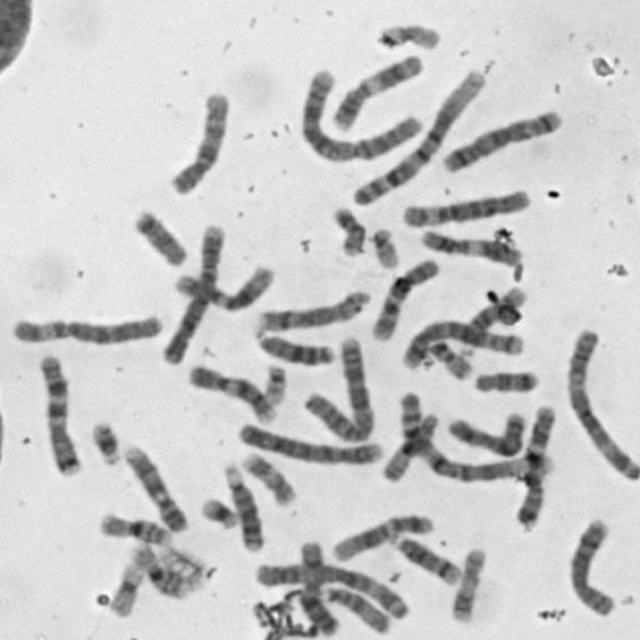A1: (346, 62, 488, 208), (392, 386, 558, 484)
A2: (293, 62, 424, 165), (296, 330, 379, 445)
A3: (560, 320, 639, 482), (249, 556, 413, 622)
B4: (157, 218, 226, 367), (233, 418, 384, 467)
B5: (436, 104, 564, 175), (397, 313, 528, 370)
C10: (165, 86, 232, 197), (366, 251, 442, 343)
C11: (329, 48, 427, 132), (415, 224, 522, 266)
C12: (327, 508, 438, 563), (168, 260, 276, 313)
C6: (6, 306, 169, 348), (397, 185, 532, 229)
C7: (33, 346, 88, 478), (511, 400, 558, 533)
C8: (564, 512, 618, 619), (253, 285, 373, 333)
C9: (119, 438, 192, 536), (183, 359, 279, 424)
D13: (218, 458, 268, 554), (251, 326, 337, 367)
D14: (455, 280, 530, 359), (385, 529, 463, 587)
D15: (376, 408, 442, 483), (318, 580, 392, 634)
E16: (126, 536, 191, 600), (94, 507, 175, 548)
E17: (236, 445, 297, 508), (448, 544, 488, 624)
E18: (127, 204, 190, 268), (469, 364, 541, 396)
F19: (106, 557, 146, 618), (372, 18, 443, 52)
F20: (424, 336, 474, 381), (328, 202, 368, 258)
G21: (86, 415, 125, 468), (195, 491, 242, 531)
G22: (365, 220, 403, 271), (258, 360, 290, 407)
X: (440, 404, 529, 460), (295, 535, 342, 637)
